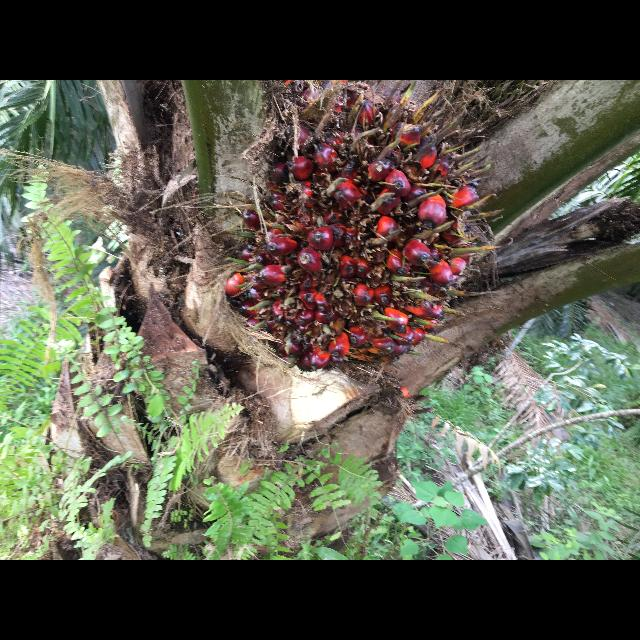Ripe: (219, 80, 492, 370)
